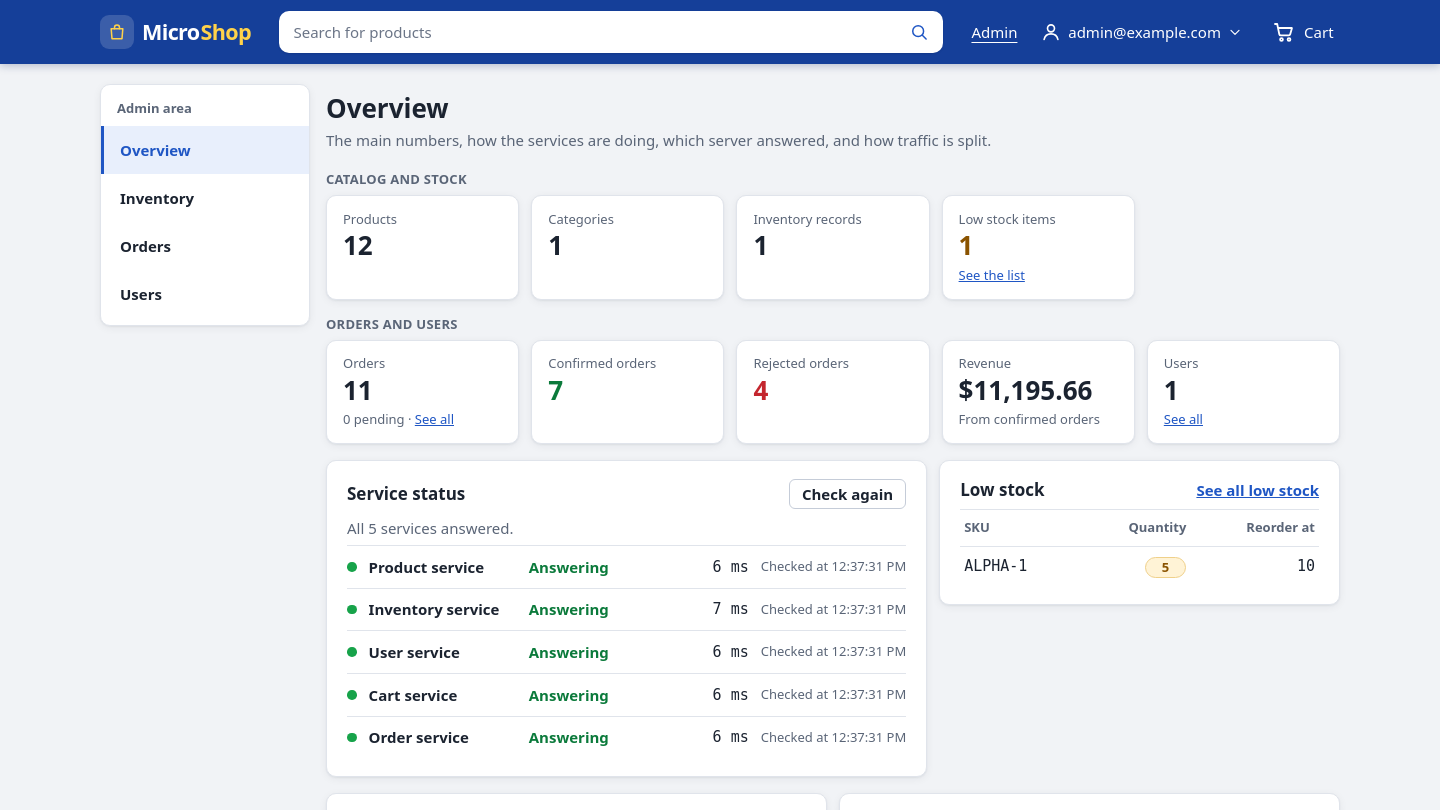
Test case: the admin menu › moves between the pages without leaving the area
Expected: the heading "Overview" is shown, [326, 90, 448, 126]
Click the link "Inventory".
click(157, 198)  # box [120, 188, 194, 208]
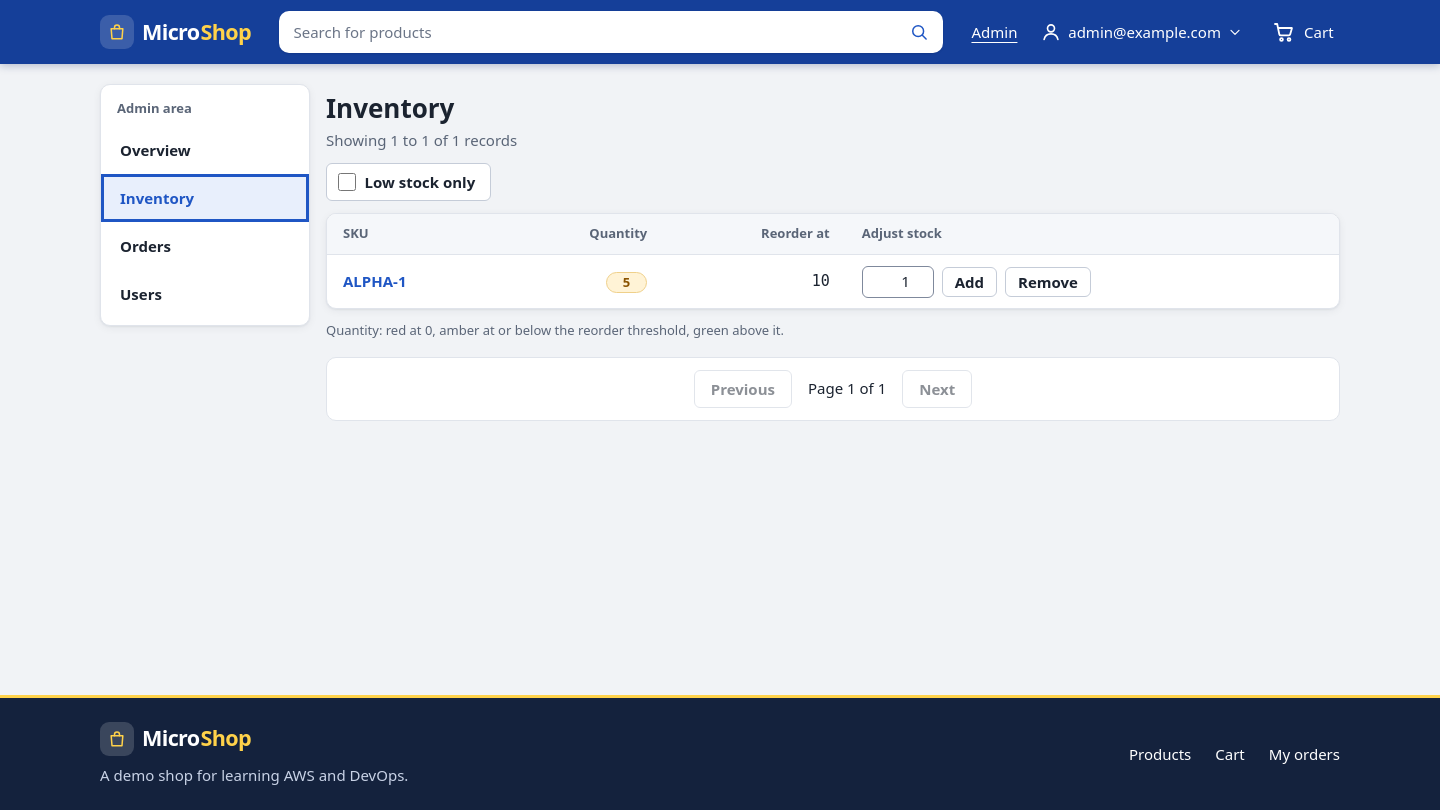
Expected: the heading "Inventory" is shown, [326, 90, 454, 126]
Click the link "Orders".
click(146, 246)  # box [120, 236, 171, 256]
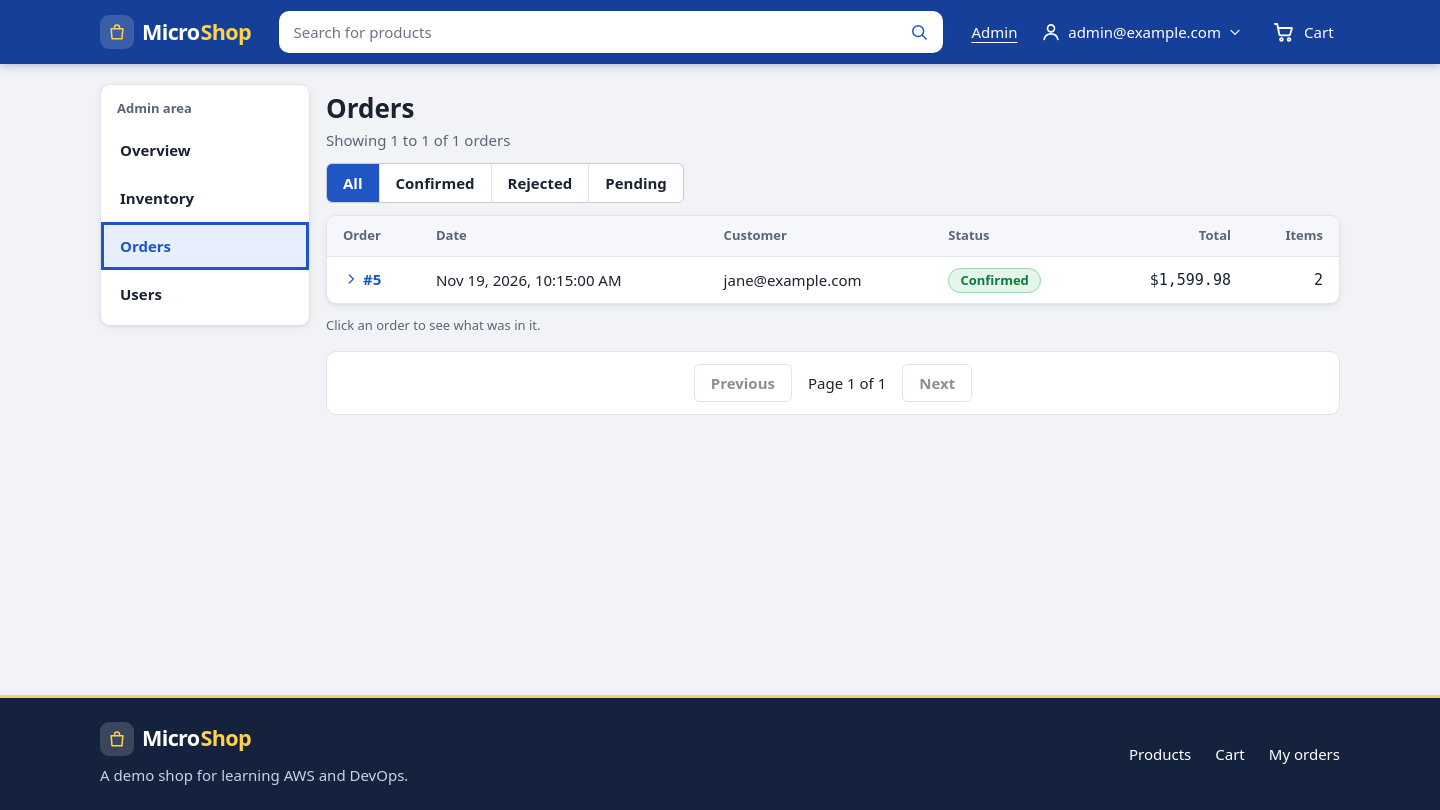
Expected: the heading "Orders" is shown, [326, 90, 414, 126]
Click the link "Users".
click(141, 294)  # box [120, 284, 162, 304]
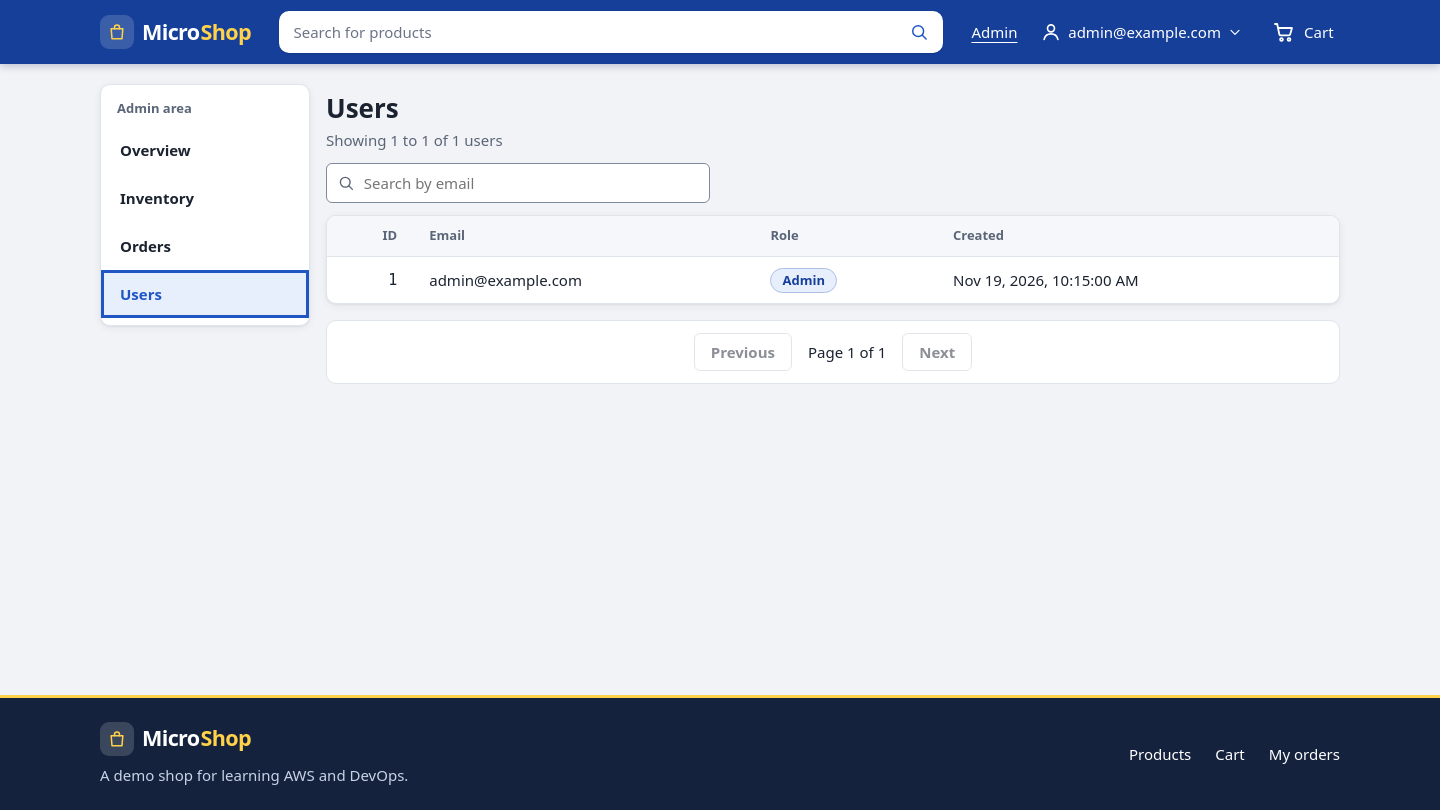
Expected: the navigation bar "Admin" is shown, [100, 84, 310, 326]
Expected: the heading "Users" is shown, [326, 90, 399, 126]
